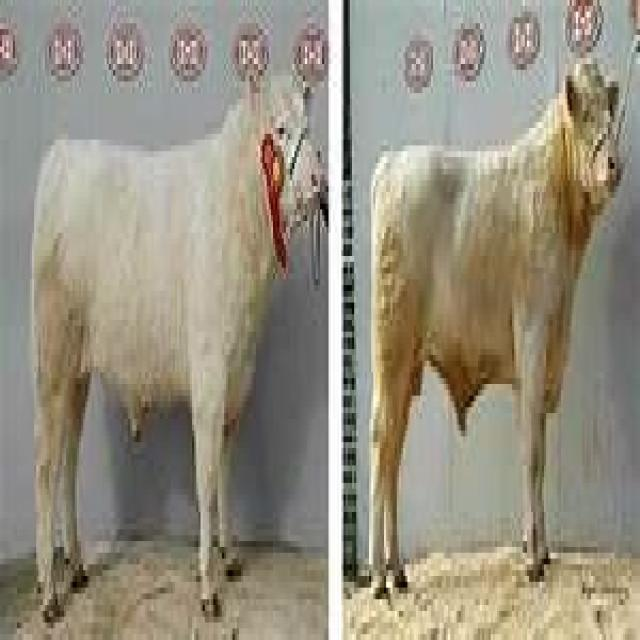cow: (30, 76, 324, 623), (371, 47, 627, 593)
